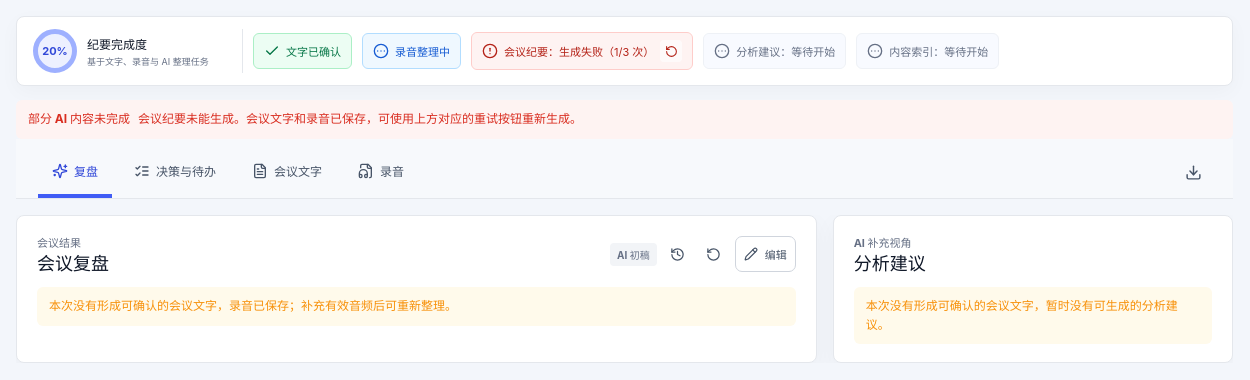
it: ReviewWorkspace › shows the actual failed minutes state in the actions tab
Click the tab "决策与待办": click(175, 172) [120,146,230,198]
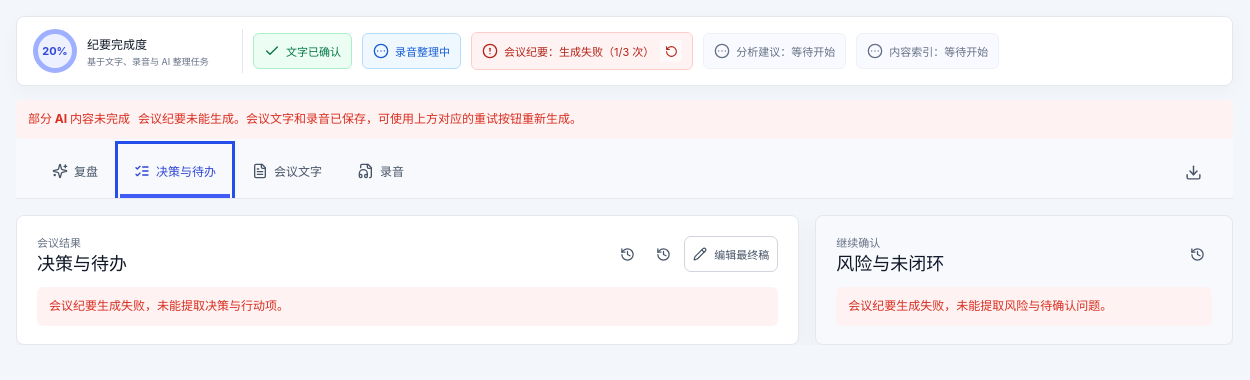
Expected: the text "会议纪要生成失败，未能提取决策与行动项。" is shown, [37,287,778,326]
